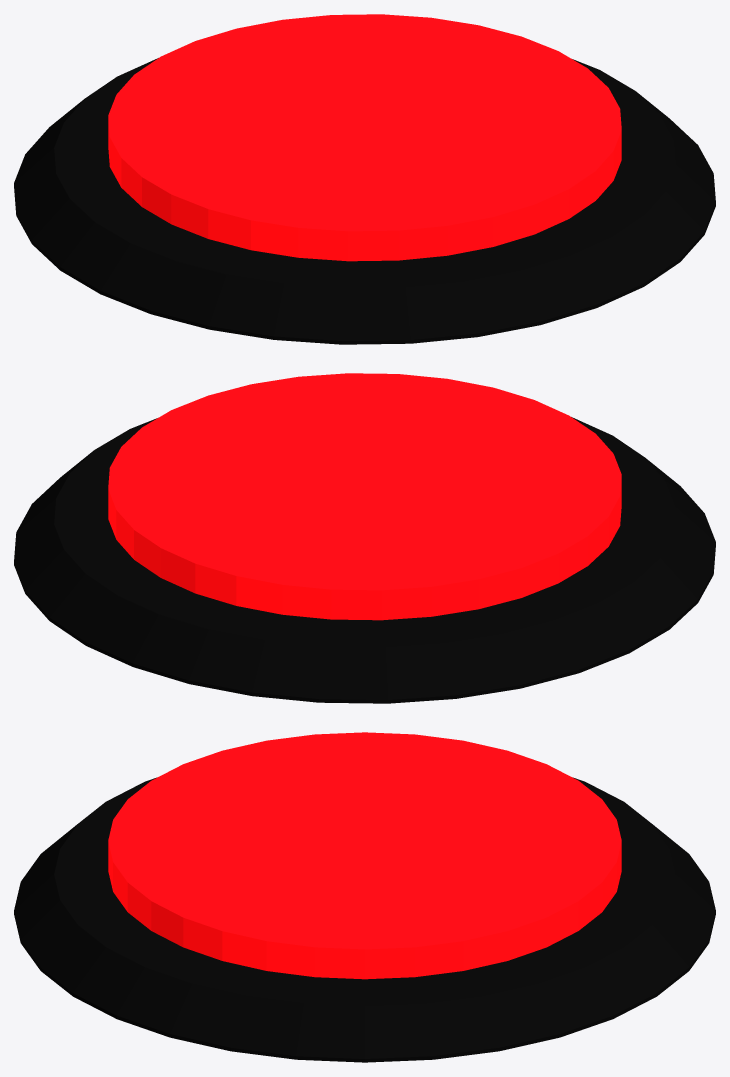
File: Button.fbx
The picture shows the model from 3 angles, top to bottom: view 1: azimuth 30°, elevation 25°; view 2: azimuth 150°, elevation 25°; view 3: azimuth 270°, elevation 25°; orthographic projection.
Visible parts, largest first — view 1: Button, Button_Base; view 2: Button, Button_Base; view 3: Button, Button_Base.
Part boxes in pixels (bbox=[...]): Button: bbox=[108, 14, 621, 261]; Button_Base: bbox=[14, 58, 715, 344]; Button: bbox=[108, 373, 621, 620]; Button_Base: bbox=[14, 417, 715, 703]; Button: bbox=[108, 732, 621, 979]; Button_Base: bbox=[14, 777, 715, 1062].
Bounding box in the file's own units: 200 × 23.07 × 200.
